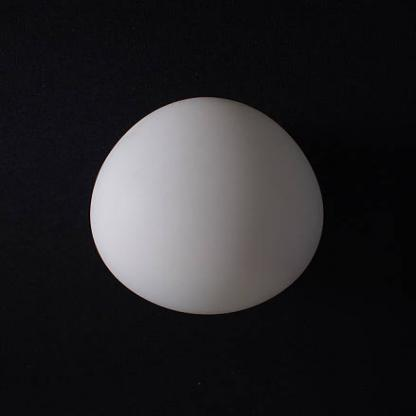egg: (92, 96, 324, 314)
